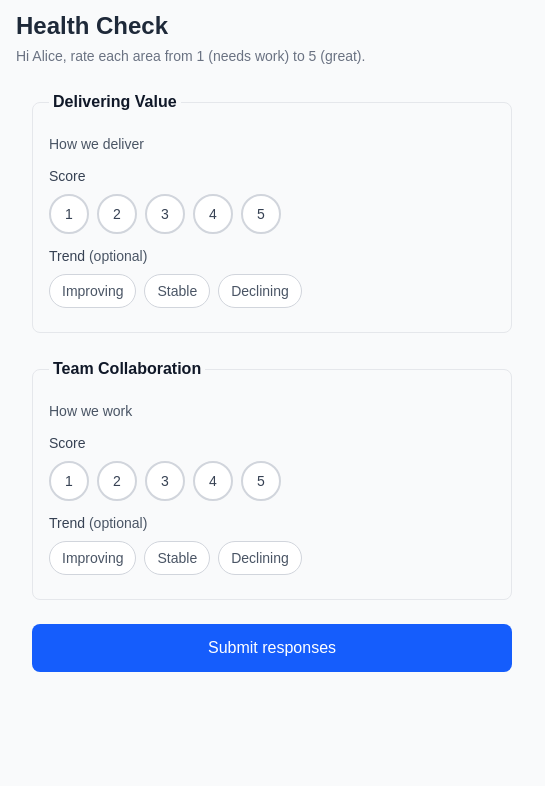
Test case: where the confirmation appears › leaves the form in place rather than replacing it
Expected: the element "Delivering Value" is shown, [32, 90, 512, 333]
Step 1. Click the radio button labelled "4" below "How we deliver" → [213, 214], box [193, 194, 233, 234]
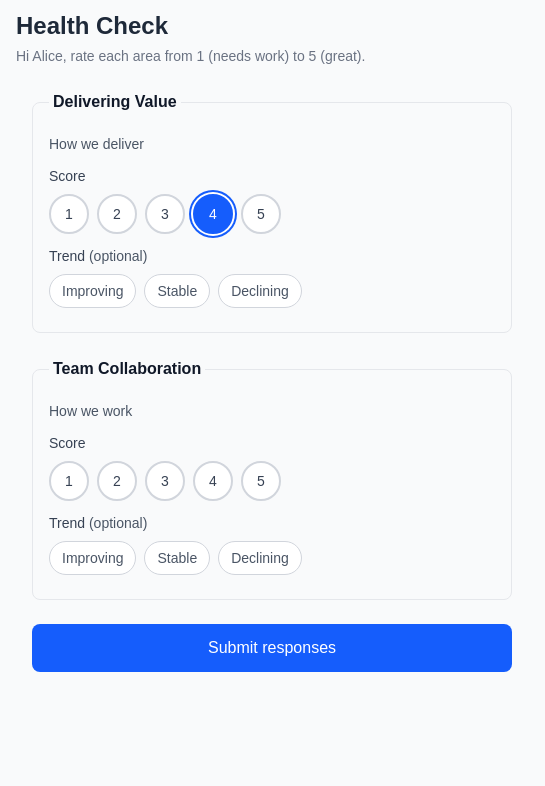
Step 2. Click the radio button labelled "4" below "How we work" → [213, 481], box [193, 461, 233, 501]
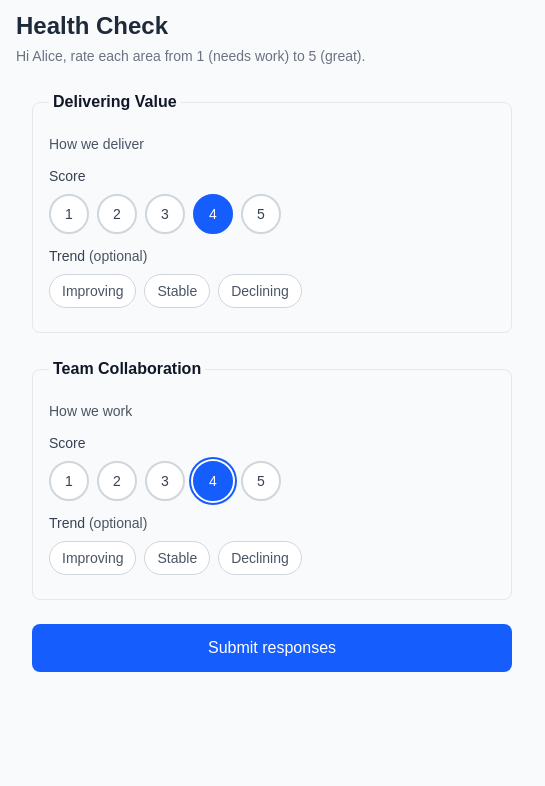
Step 3. Click the button "Submit responses" → [272, 648], box [32, 624, 512, 672]
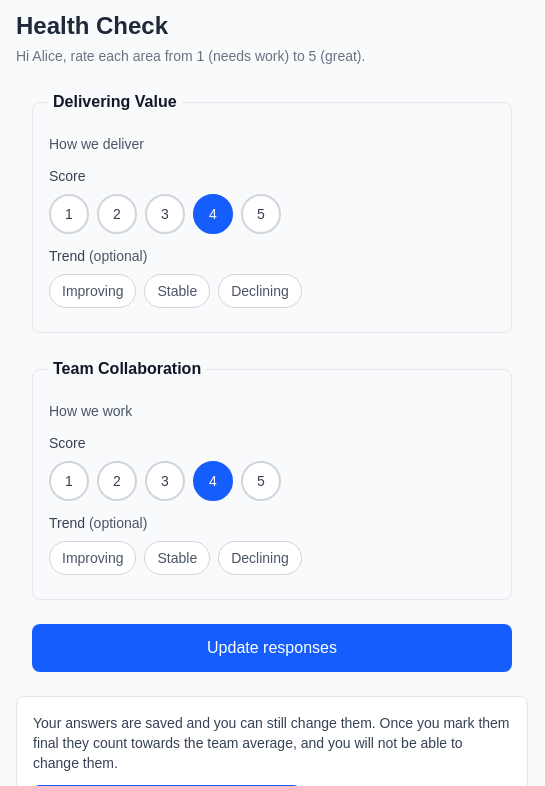
Expected: the element "Delivering Value" is shown, [32, 90, 512, 333]
Expected: the button "Update responses" is shown, [32, 624, 512, 672]
